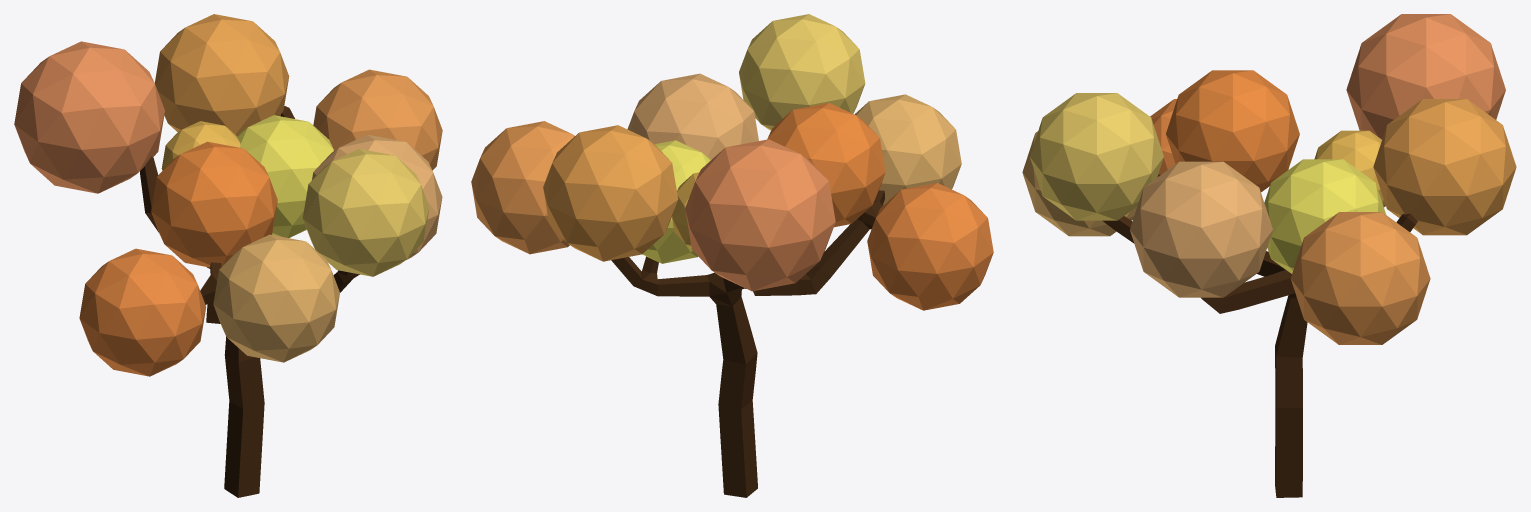
File: tree3.gltf
The picture shows the model from 3 angles, left to right: view 1: azimuth 30°, elevation 25°; view 2: azimuth 150°, elevation 25°; view 3: azimuth 270°, elevation 25°; orthographic projection. The views are drawn at different scales.
Visible parts, largest first — view 1: Icosphere.002; view 2: Icosphere.002; view 3: Icosphere.002.
Boxes of the visible parts, x1=… form: Icosphere.002: x1=14, y1=14, x2=442, y2=497; Icosphere.002: x1=471, y1=14, x2=993, y2=497; Icosphere.002: x1=1022, y1=14, x2=1516, y2=497.
Size of the model in its own units: 6.33 by 5.96 by 6.19.
